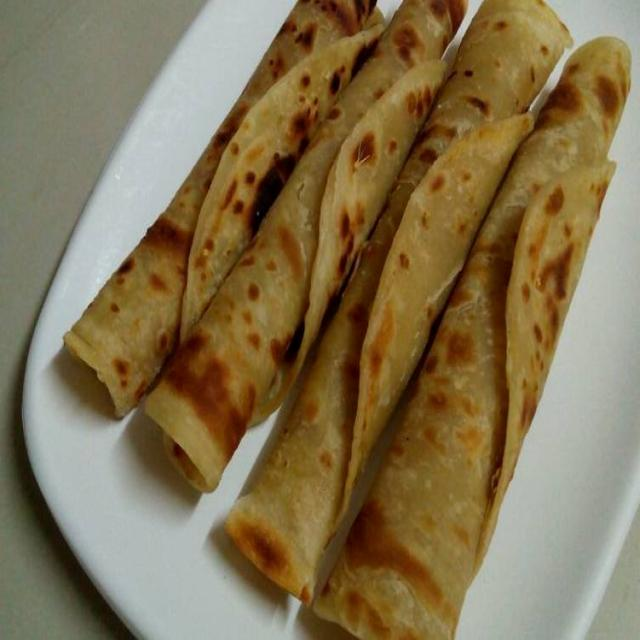chapathi: (227, 0, 569, 592), (312, 36, 636, 637), (138, 0, 469, 499), (56, 0, 385, 422)
